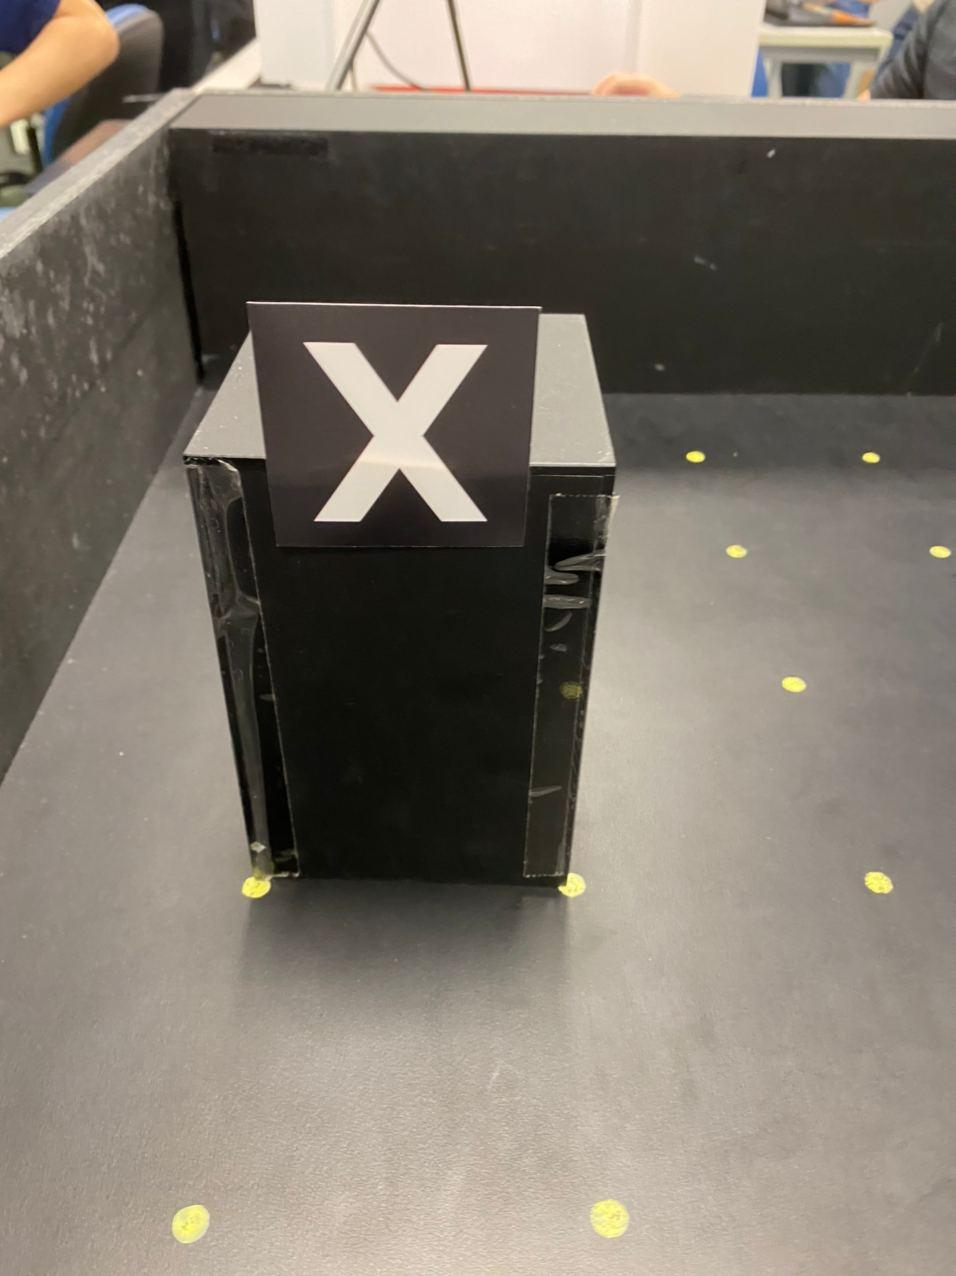x: (294, 324, 499, 538)
